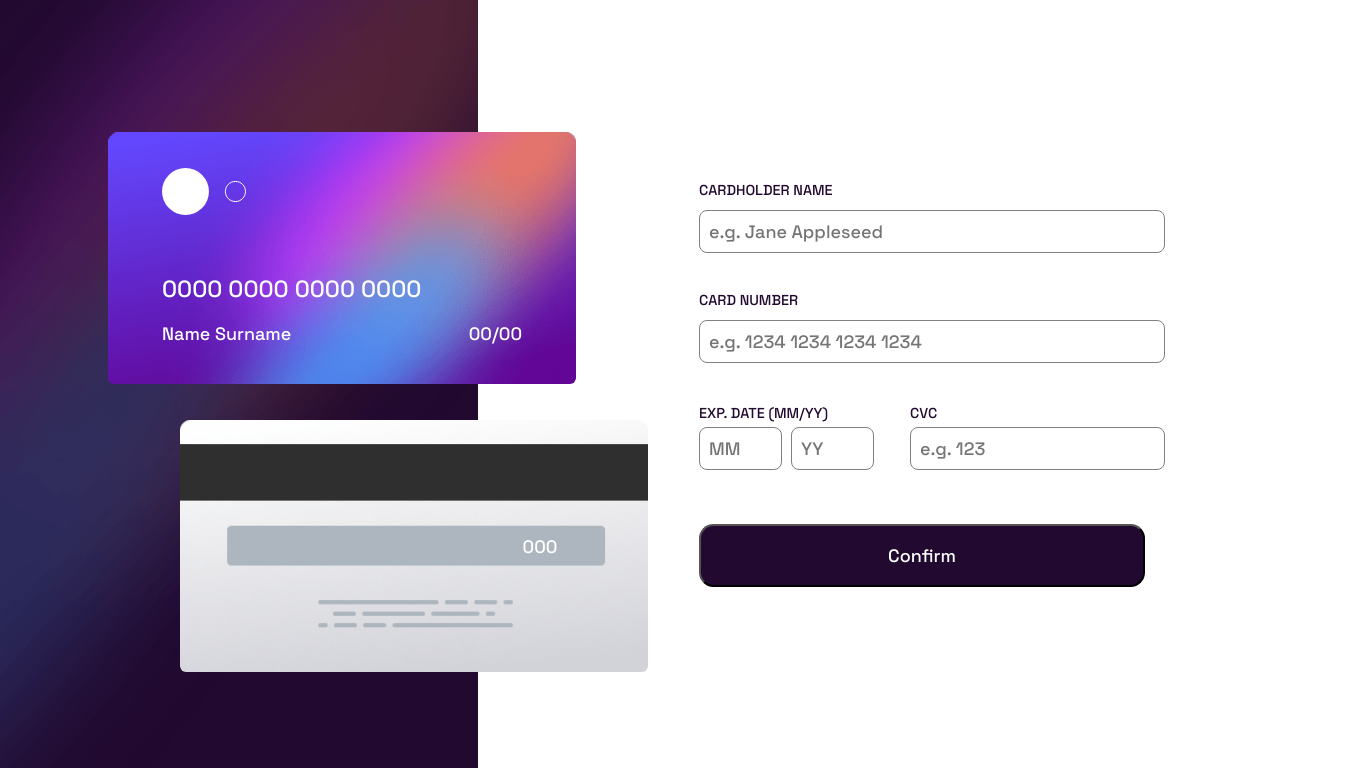
Bad Card Format
Type "959164896389101E" into the field labelled "CARD NUMBER" at (932, 341), box left=699, top=320, right=1165, bottom=362
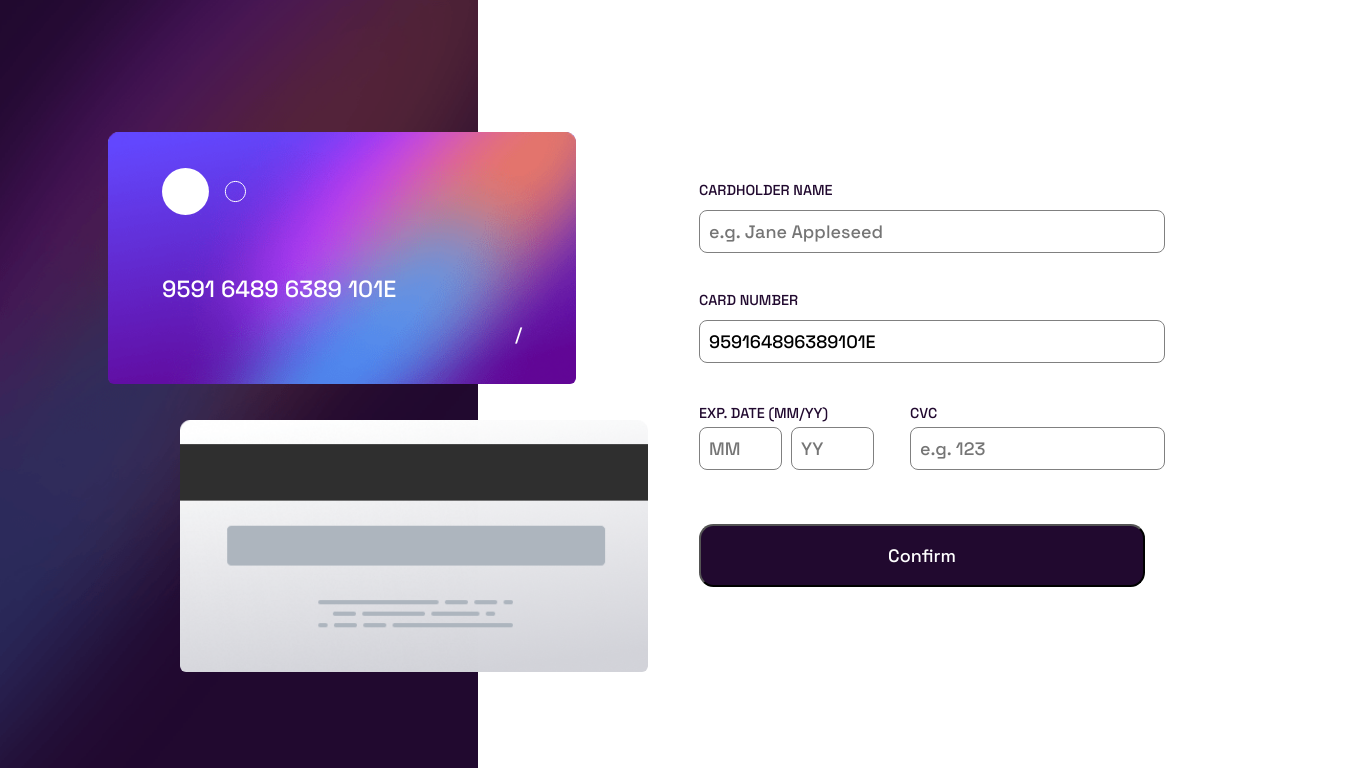
Check: the text "9591" is shown, box left=162, top=274, right=221, bottom=304
Check: the text "6489" is shown, box left=221, top=274, right=285, bottom=304
Check: the text "6389" is shown, box left=285, top=274, right=348, bottom=304
Click the button at (922, 555), box left=699, top=524, right=1145, bottom=587
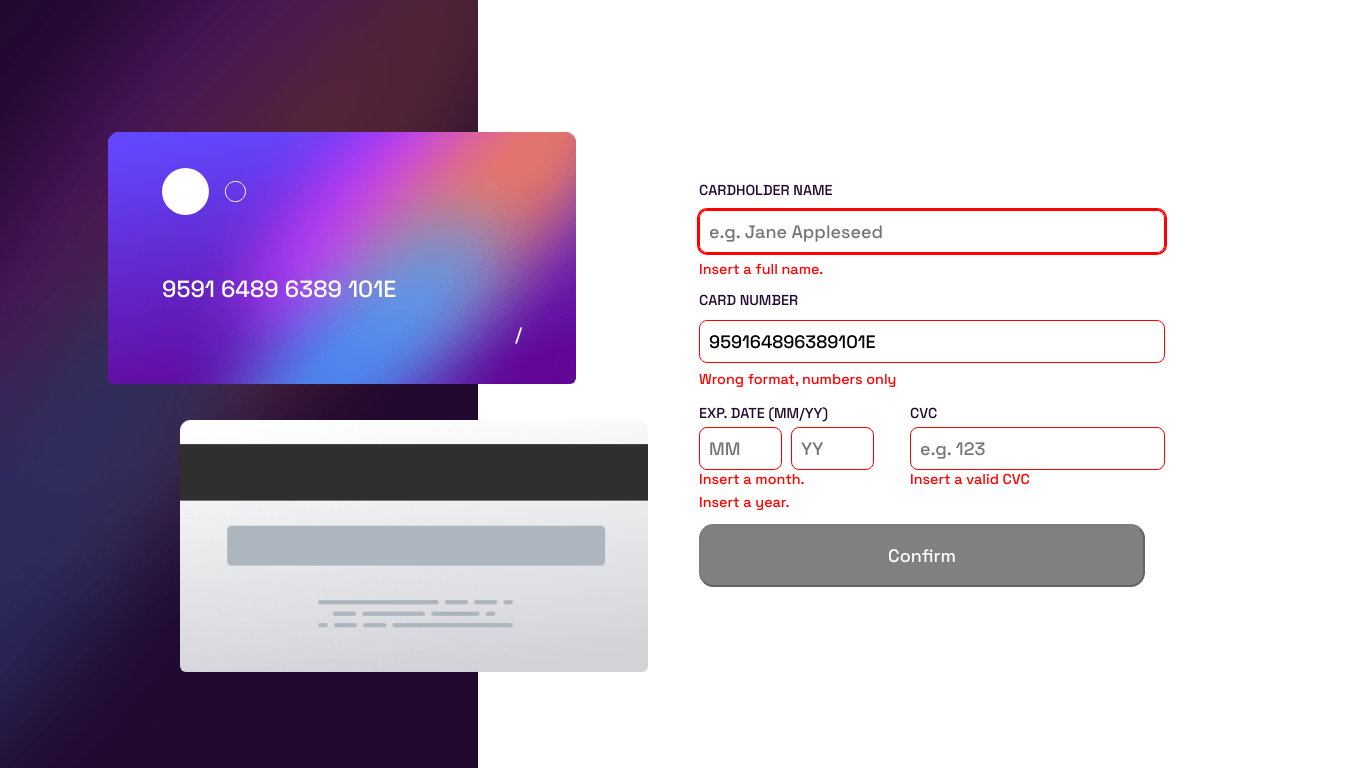
Check: the text "Wrong format, numbers only" is shown, box left=699, top=370, right=896, bottom=393
